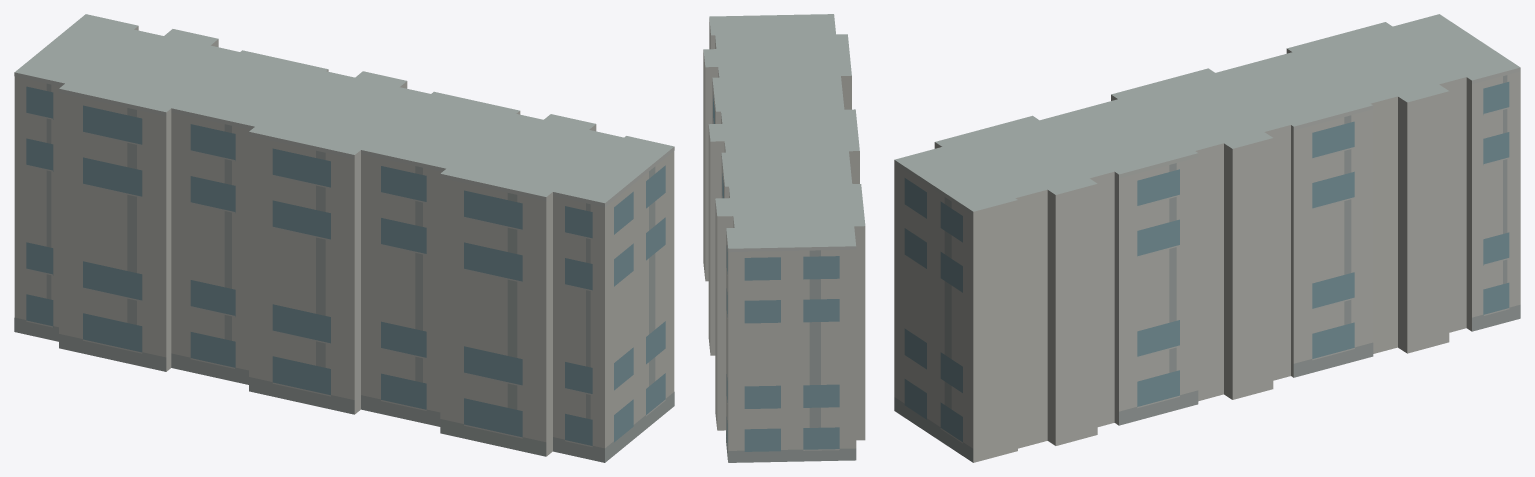
File: residential-905d1090-2b88-4037-8e49-3f487b8342df.glb
3 renders of one model, left to right at view 1: azimuth 30°, elevation 25°; view 2: azimuth 150°, elevation 25°; view 3: azimuth 270°, elevation 25°, orthographic. The views are drawn at different scales.
Parts seen in each view (by area): view 1: residential-905d1090-2b88-4037-8e49-3f487b8342df.tmp; view 2: residential-905d1090-2b88-4037-8e49-3f487b8342df.tmp; view 3: residential-905d1090-2b88-4037-8e49-3f487b8342df.tmp.
Part boxes in pixels (box(x1,y1,x2,y2)): residential-905d1090-2b88-4037-8e49-3f487b8342df.tmp: box(14, 14, 674, 462); residential-905d1090-2b88-4037-8e49-3f487b8342df.tmp: box(703, 14, 865, 462); residential-905d1090-2b88-4037-8e49-3f487b8342df.tmp: box(894, 14, 1520, 462).
Size of the model in its own units: 25.76 by 15.25 by 34.47.
